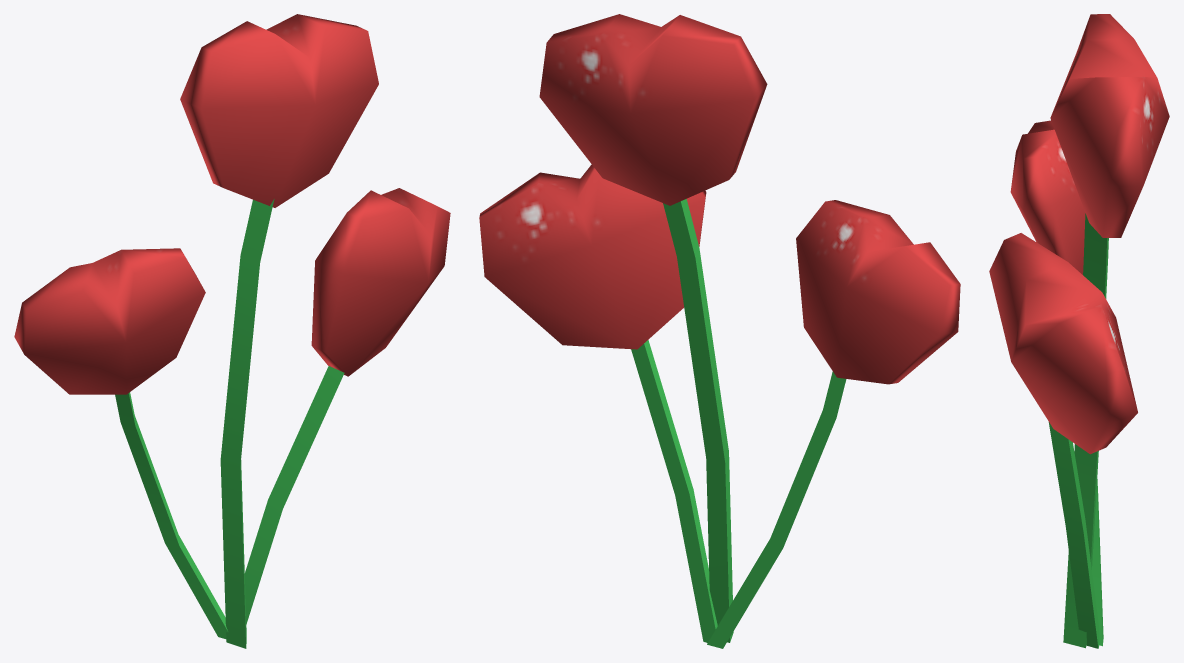
Rendered from Flower.fbx.
The picture shows the model from 3 angles, left to right: view 1: azimuth 30°, elevation 25°; view 2: azimuth 150°, elevation 25°; view 3: azimuth 270°, elevation 25°; orthographic projection. The views are drawn at different scales.
Visible parts, largest first — view 1: Flower; view 2: Flower; view 3: Flower.
Boxes of the visible parts, x1,y1,x2,y2 form: Flower: [14, 14, 450, 648]; Flower: [479, 14, 960, 648]; Flower: [989, 14, 1169, 648].
Size of the model in its own units: 117 by 150 by 39.26.
